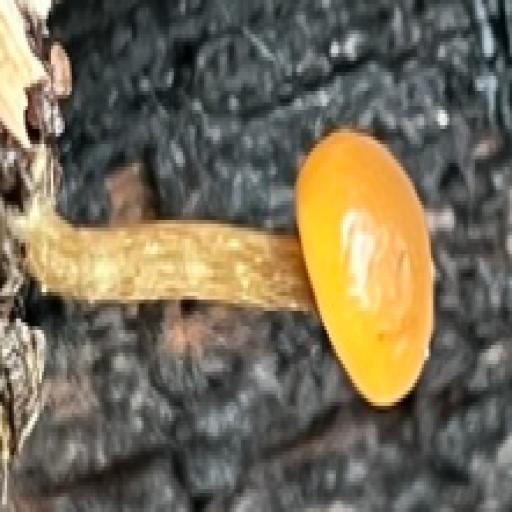mushroom: (40, 116, 437, 422)
